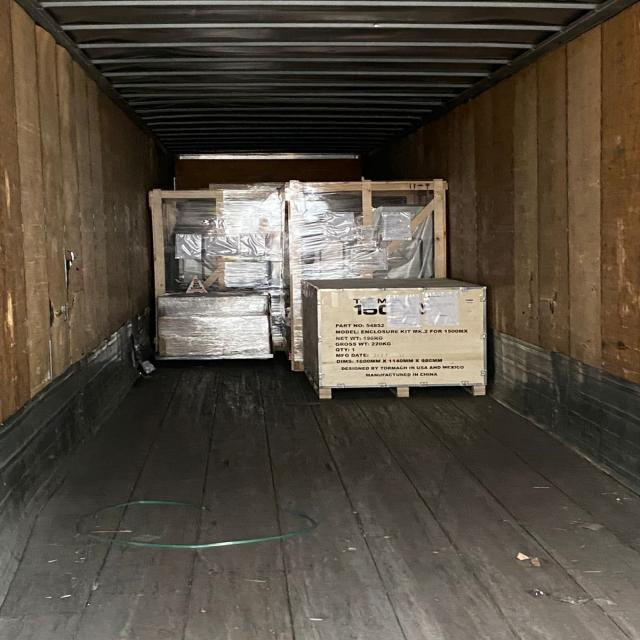15lx: (285, 180, 445, 370)
encl1500: (302, 278, 486, 397)
